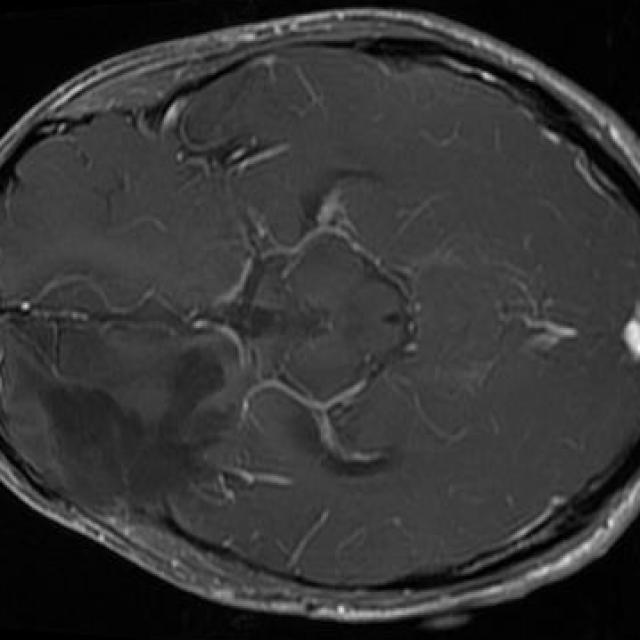glioma: (34, 349, 225, 505)
